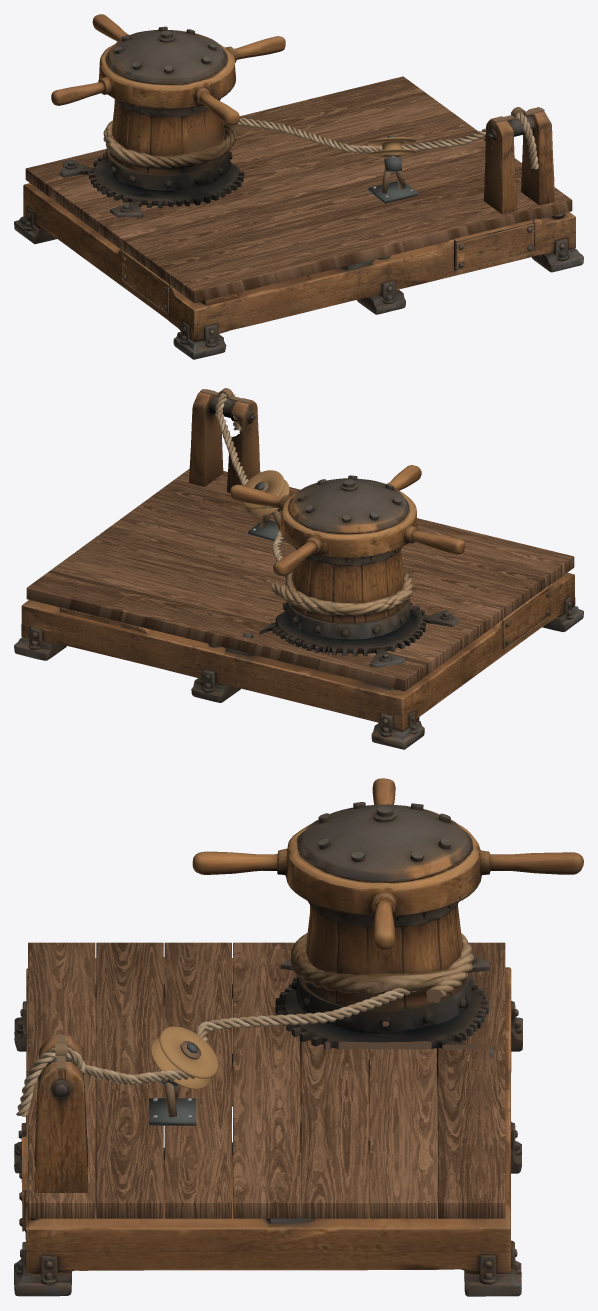
The model's file is barge.glb.
3 renders of one model, top to bottom at view 1: azimuth 30°, elevation 25°; view 2: azimuth 150°, elevation 25°; view 3: azimuth 270°, elevation 25°, orthographic. The views are drawn at different scales.
Visible parts, largest first — view 1: Hi3D barge · retained original shell, Replaceable oak bearing deck 7, Replaceable oak bearing deck 5, Replaceable oak bearing deck 6, Replaceable oak bearing deck 4, Replaceable oak bearing deck 2, Replaceable oak bearing deck 3, Replaceable oak bearing deck 1, Turned measuring sheave - real U groove, Hemp working strand 1 from capstan through measuring groove, Hemp working strand 2 from capstan through measuring groove, Hemp working strand 3 from capstan through measuring groove (+1 smaller); view 2: Hi3D barge · retained original shell, Replaceable oak bearing deck 1, Replaceable oak bearing deck 2, Replaceable oak bearing deck 5, Replaceable oak bearing deck 4, Replaceable oak bearing deck 3, Replaceable oak bearing deck 6, Replaceable oak bearing deck 7, Turned measuring sheave - real U groove; view 3: Hi3D barge · retained original shell, Replaceable oak bearing deck 6, Replaceable oak bearing deck 4, Replaceable oak bearing deck 5, Replaceable oak bearing deck 1, Replaceable oak bearing deck 3, Replaceable oak bearing deck 2, Replaceable oak bearing deck 7, Turned measuring sheave - real U groove, Hemp working strand 1 from capstan through measuring groove, Hemp working strand 3 from capstan through measuring groove, Hemp working strand 2 from capstan through measuring groove (+1 smaller).
Part boxes in pixels (x1,y1,x2,y2): Hi3D barge · retained original shell: (14, 14, 583, 359); Replaceable oak bearing deck 7: (170, 187, 572, 303); Replaceable oak bearing deck 5: (122, 151, 521, 266); Replaceable oak bearing deck 6: (146, 165, 521, 285); Replaceable oak bearing deck 4: (98, 129, 485, 249); Replaceable oak bearing deck 2: (49, 94, 450, 214); Replaceable oak bearing deck 3: (74, 112, 475, 232); Replaceable oak bearing deck 1: (25, 76, 426, 196); Turned measuring sheave - real U groove: (367, 137, 416, 158); Hemp working strand 1 from capstan through measuring groove: (239, 118, 509, 153); Hemp working strand 2 from capstan through measuring groove: (236, 119, 485, 153); Hemp working strand 3 from capstan through measuring groove: (241, 118, 485, 153); Hi3D barge · retained original shell: (14, 389, 583, 749); Replaceable oak bearing deck 1: (26, 570, 428, 691); Replaceable oak bearing deck 2: (51, 553, 452, 673); Replaceable oak bearing deck 5: (123, 499, 525, 619); Replaceable oak bearing deck 4: (99, 517, 501, 638); Replaceable oak bearing deck 3: (75, 535, 477, 655); Replaceable oak bearing deck 6: (148, 482, 549, 601); Replaceable oak bearing deck 7: (172, 469, 574, 584); Turned measuring sheave - real U groove: (241, 470, 289, 516); Hi3D barge · retained original shell: (14, 778, 583, 1296); Replaceable oak bearing deck 6: (96, 942, 163, 1218); Replaceable oak bearing deck 4: (233, 942, 300, 1218); Replaceable oak bearing deck 5: (164, 942, 231, 1218); Replaceable oak bearing deck 1: (438, 942, 505, 1218); Replaceable oak bearing deck 3: (301, 1040, 368, 1218); Replaceable oak bearing deck 2: (369, 1048, 436, 1218); Replaceable oak bearing deck 7: (28, 942, 95, 1218); Turned measuring sheave - real U groove: (151, 1026, 218, 1089); Hemp working strand 1 from capstan through measuring groove: (85, 988, 410, 1085); Hemp working strand 3 from capstan through measuring groove: (81, 991, 403, 1085); Hemp working strand 2 from capstan through measuring groove: (81, 990, 416, 1085).
Bounding box in the file's own units: 2.25 × 1.12 × 1.96.
11 materials, 2 textured.
